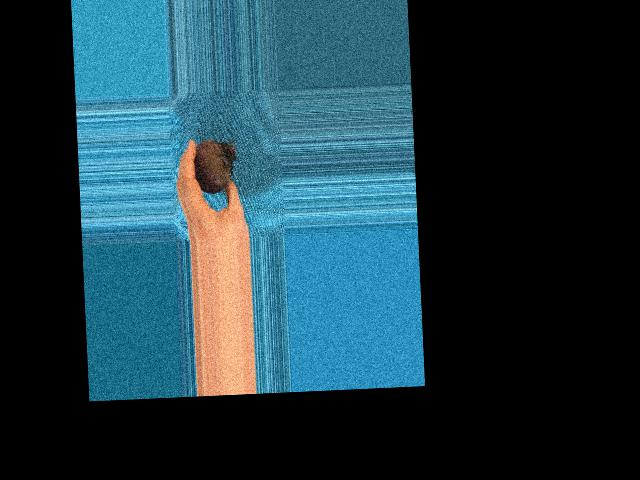beet: (193, 138, 238, 193)
